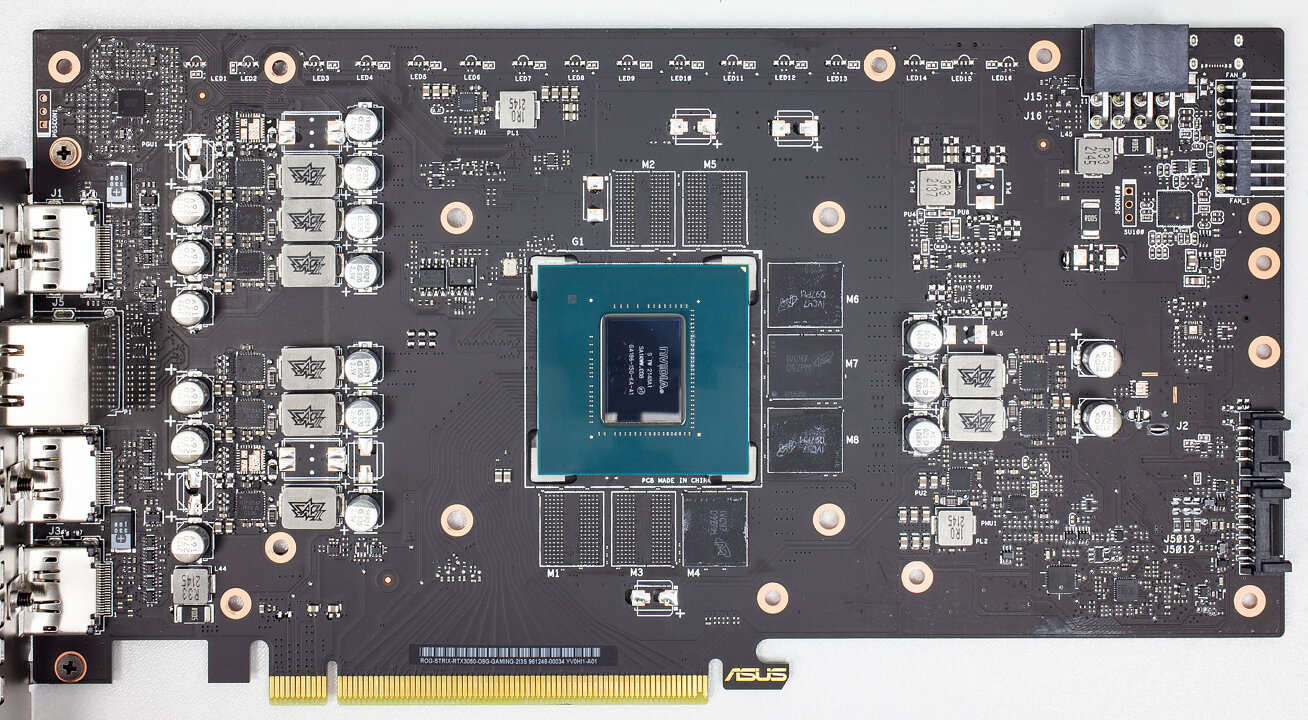Induktor: (279, 151, 341, 198), (278, 345, 340, 390), (943, 396, 1003, 442), (279, 390, 340, 435), (280, 197, 341, 242), (280, 242, 342, 284), (944, 353, 1004, 396), (279, 486, 337, 528), (933, 506, 974, 546), (1074, 136, 1115, 174), (499, 90, 538, 128), (917, 167, 955, 206), (174, 566, 210, 604)
